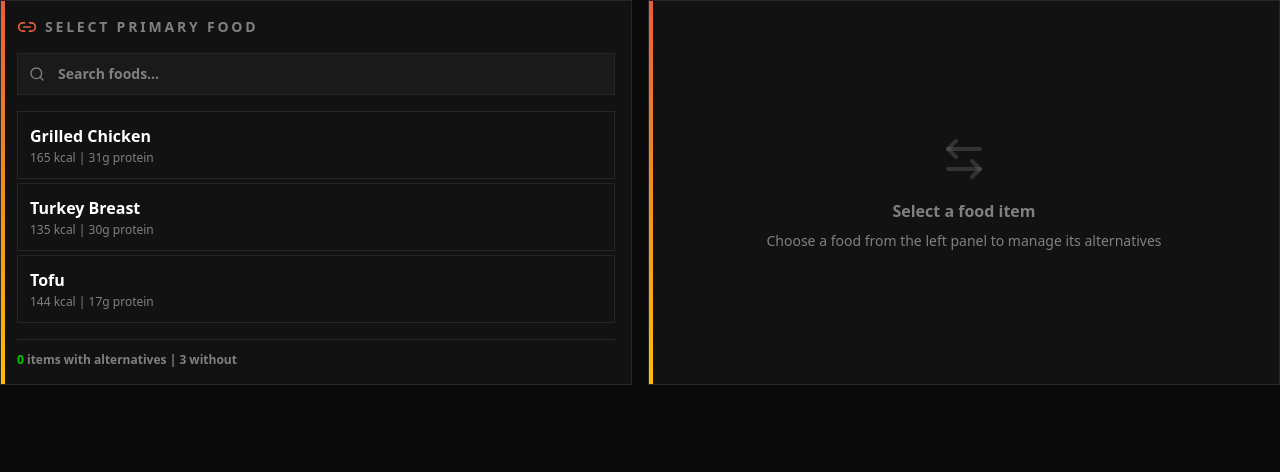
Test: AlternativesLinker › shows pending changes summary
The width and height of the screenshot is (1280, 472).
# Select chicken
Click the button "Grilled Chicken 165 kcal | 31g protein" at (90, 136), box [17,111,615,179]
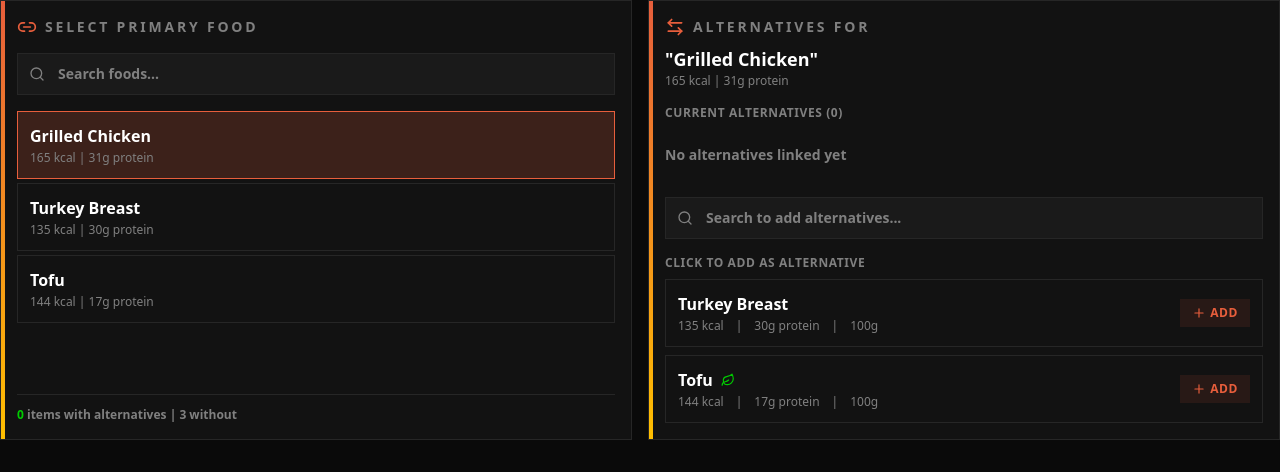
# Add an alternative
Click the 1st button "Add" at (1215, 313), box [1180,299,1250,327]
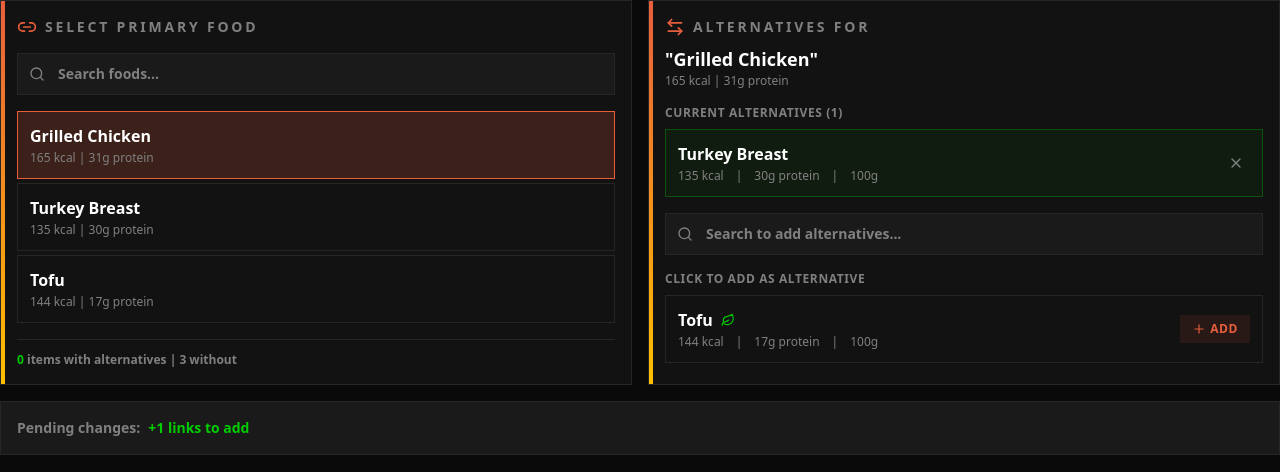
expect the text "Pending changes:" is shown: met, box [17,418,140,437]
expect the text "+1 links to add" is shown: met, box [148,418,250,437]
